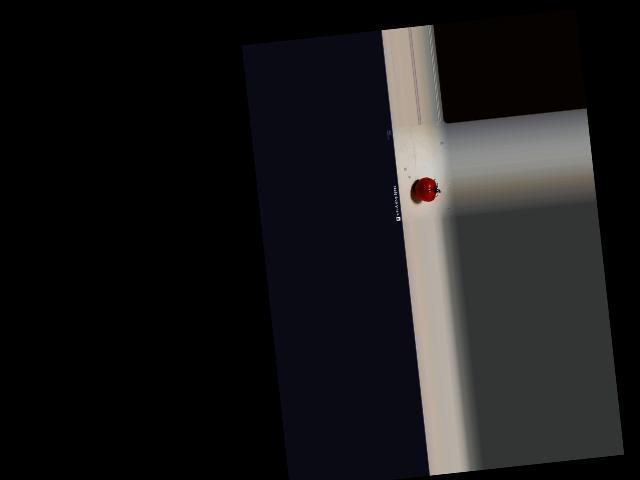tomato: (413, 176, 437, 202)
